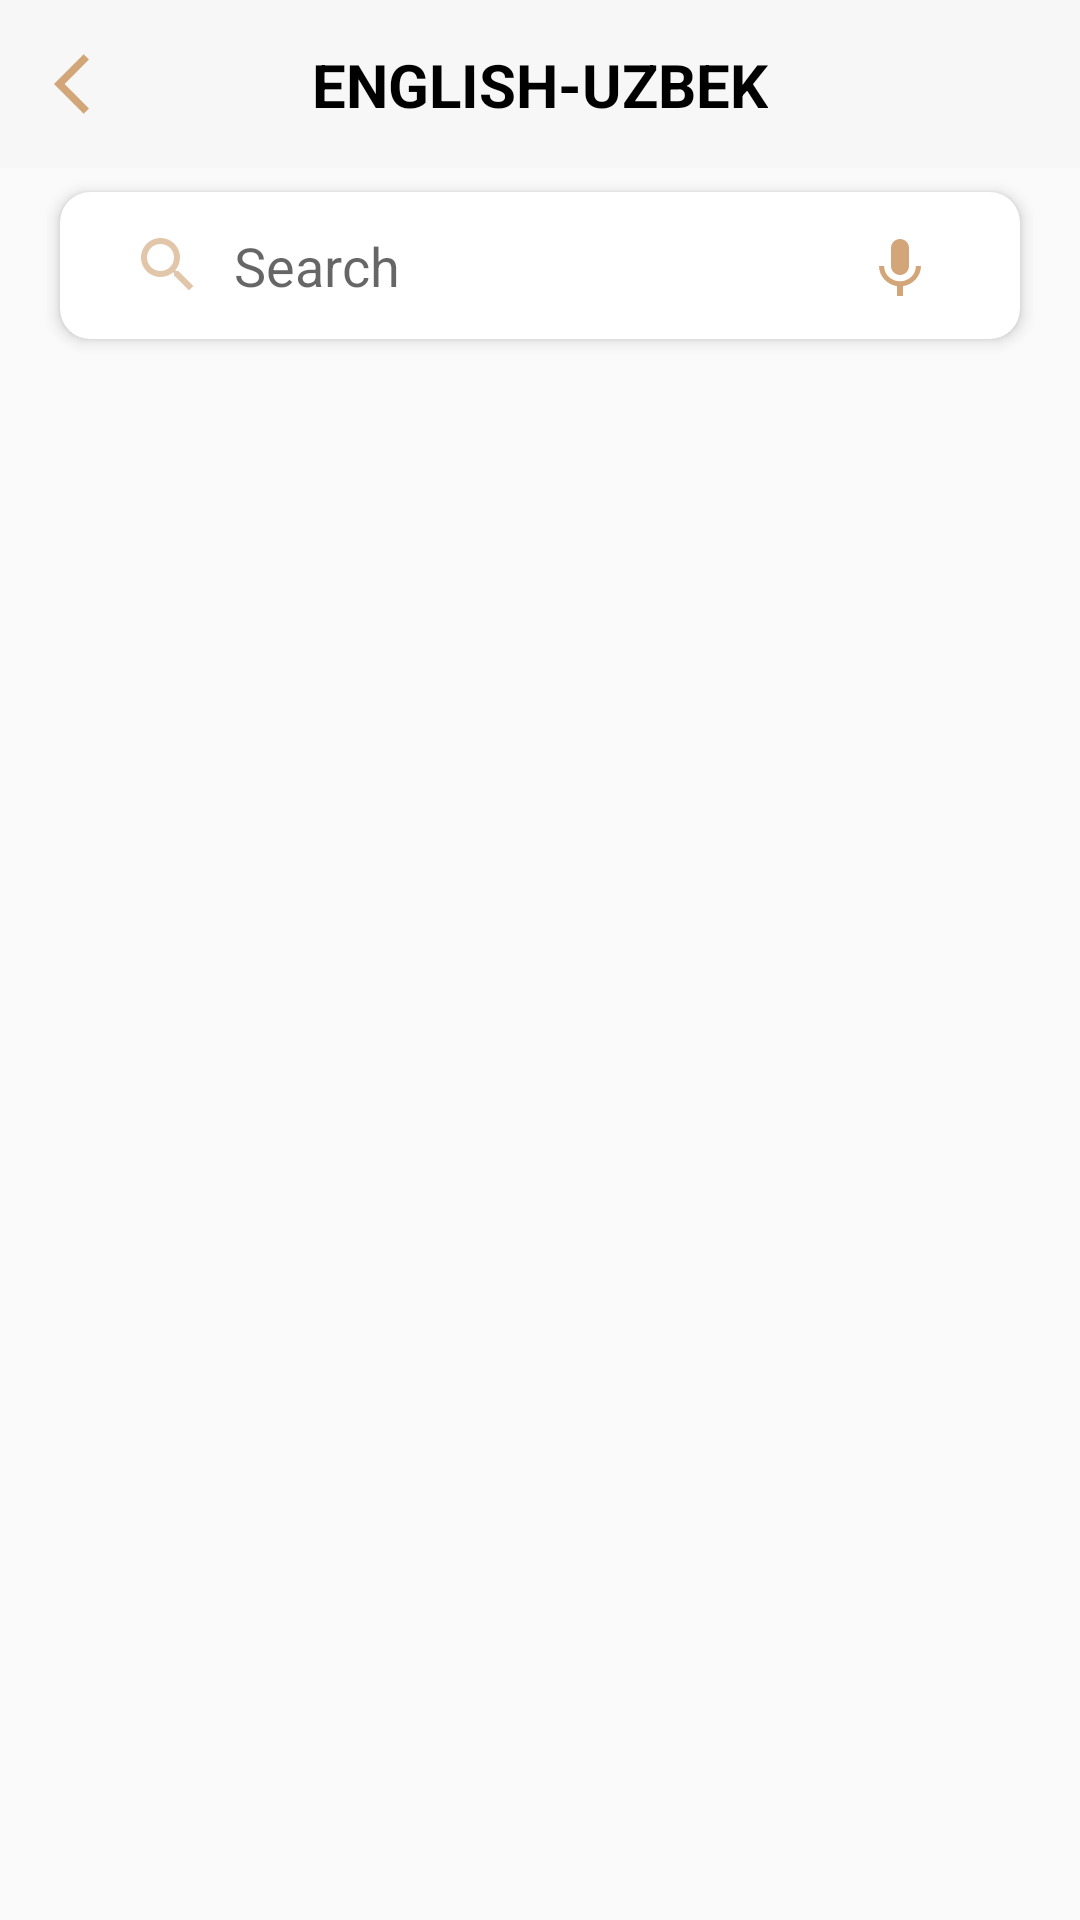

Named icons in this screenshot (1080×1920) and their centers, (x,y):
arrow back: (71,84)
keyboard voice: (900,267)
